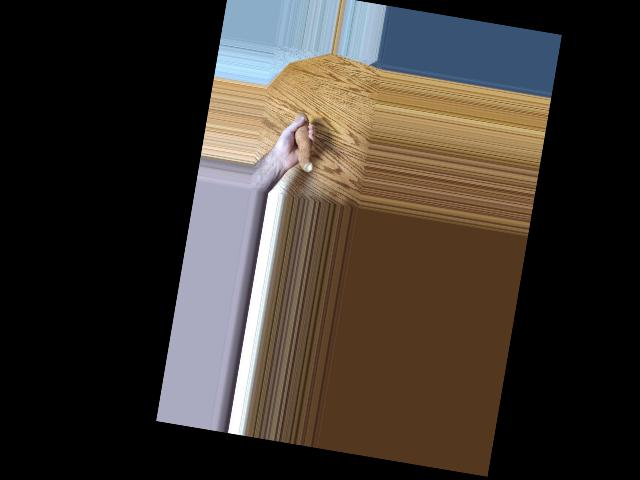sweet_potato: (287, 109, 321, 176)
